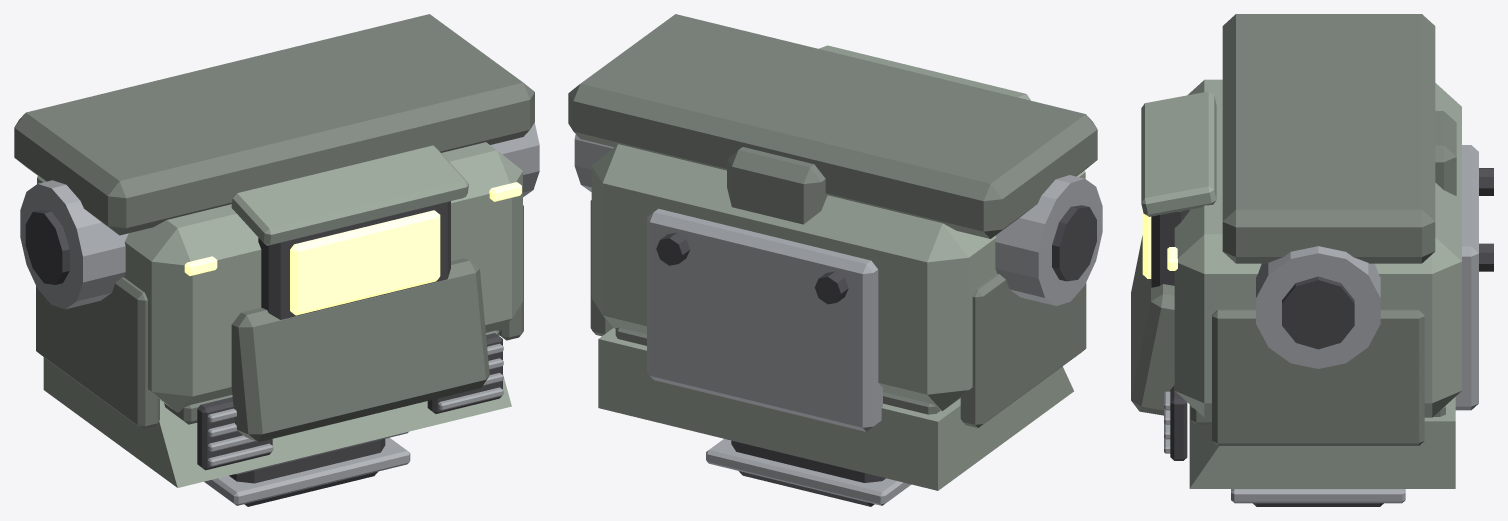
File: medium-torso.glb
The picture shows the model from 3 angles, left to right: view 1: azimuth 30°, elevation 25°; view 2: azimuth 150°, elevation 25°; view 3: azimuth 270°, elevation 25°; orthographic projection. The views are drawn at different scales.
Visible parts, largest first — view 1: torso; view 2: torso; view 3: torso.
Part boxes in pixels (x1,y1,x2,y2): torso: (14, 14, 539, 506); torso: (568, 14, 1102, 506); torso: (1131, 14, 1493, 506).
Bounding box in the file's own units: 2.54 × 1.89 × 1.7.
